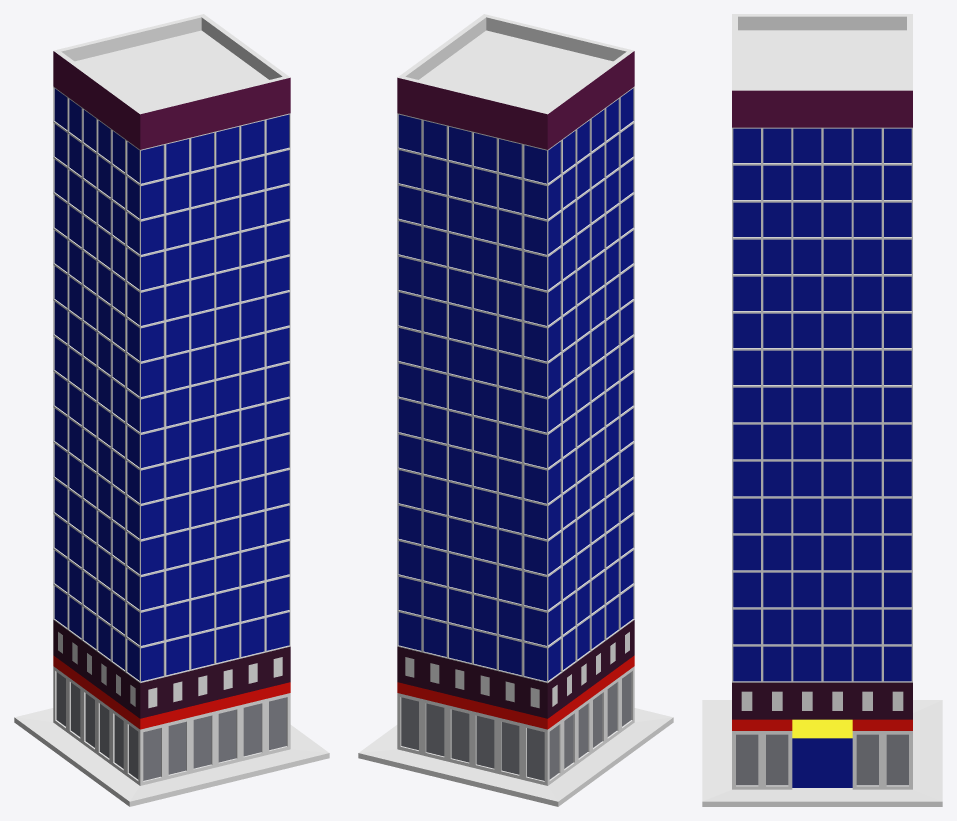
File: tower.glb
The picture shows the model from 3 angles, left to right: view 1: azimuth 30°, elevation 25°; view 2: azimuth 150°, elevation 25°; view 3: azimuth 270°, elevation 25°; orthographic projection. The views are drawn at different scales.
Visible parts, largest first — view 1: Cube; view 2: Cube; view 3: Cube.
Part boxes in pixels (x1,y1,x2,y2): Cube: (14, 14, 329, 806); Cube: (358, 14, 673, 806); Cube: (702, 14, 942, 806).
Bounding box in the file's own units: 2.65 × 8.58 × 2.65.
